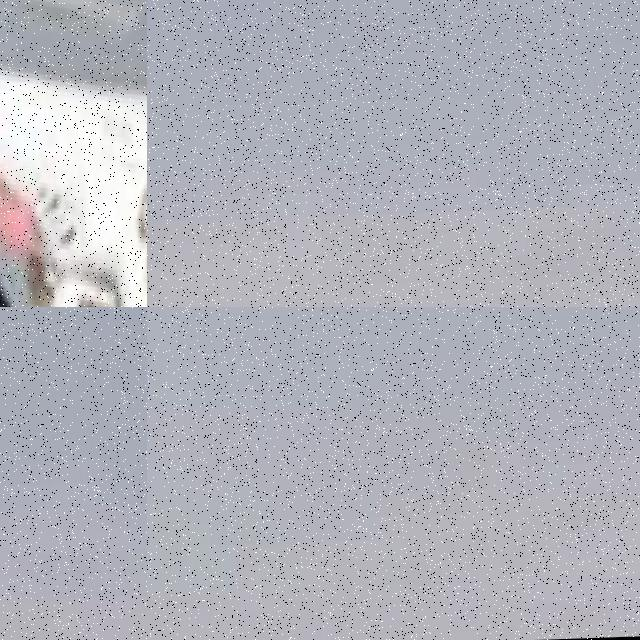drone: (0, 0, 147, 307)
